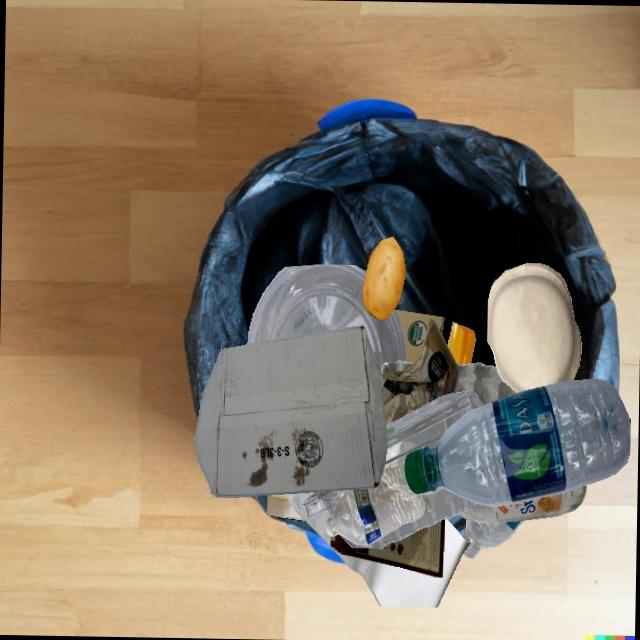biowaste: (362, 236, 405, 318)
cardboard: (194, 325, 387, 497), (330, 518, 445, 577), (394, 309, 444, 363), (455, 362, 516, 405), (267, 493, 306, 521)
glass: (459, 484, 586, 523)
paper: (287, 491, 469, 607), (486, 263, 581, 393), (380, 318, 459, 426)
plastic: (403, 378, 630, 506), (247, 264, 406, 374), (339, 487, 476, 548), (324, 466, 424, 546), (318, 440, 438, 504), (385, 393, 449, 440), (460, 518, 523, 558), (438, 391, 483, 441), (447, 322, 475, 364), (300, 504, 337, 517)
